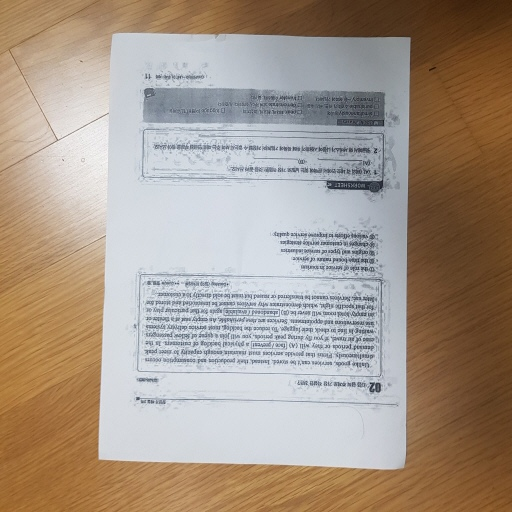Paper_2: (98, 32, 411, 478)
